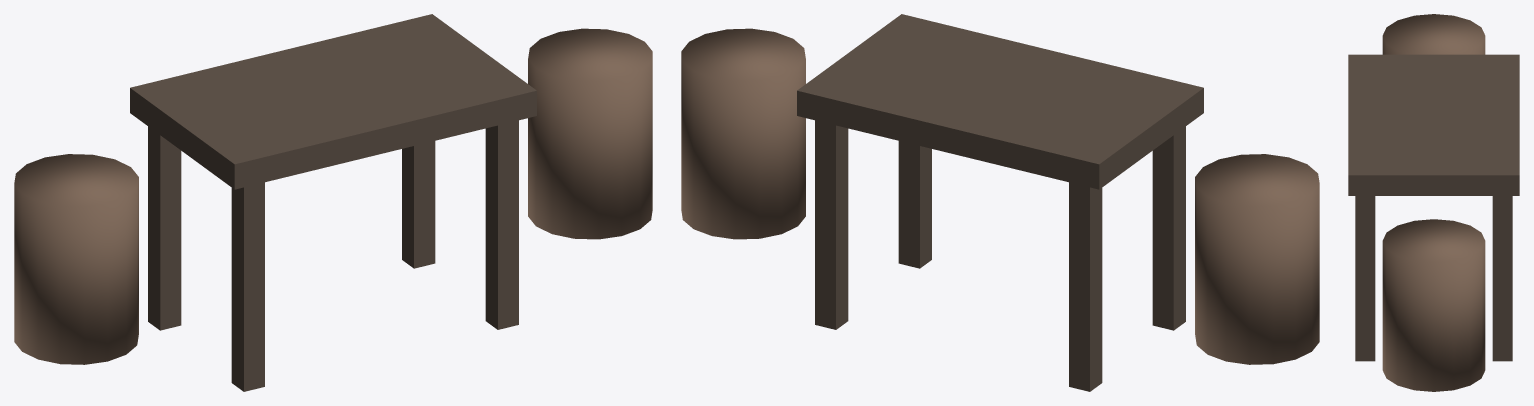
Rendered from prop_table_set.glb.
The picture shows the model from 3 angles, left to right: view 1: azimuth 30°, elevation 25°; view 2: azimuth 150°, elevation 25°; view 3: azimuth 270°, elevation 25°; orthographic projection. The views are drawn at different scales.
Parts seen in each view (by area): view 1: table_set; view 2: table_set; view 3: table_set.
Boxes of the visible parts, bbox=[...] form: table_set: bbox=[14, 14, 652, 391]; table_set: bbox=[681, 14, 1319, 391]; table_set: bbox=[1348, 14, 1519, 391].
Size of the model in its own units: 2.06 by 0.74 by 0.6.
